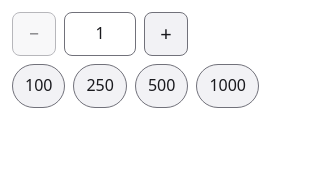
Test: QuantityField › a chip replaces a pending draft
Clear the number field named "Quantity" at (100, 34), box 64,12 -> 136,56
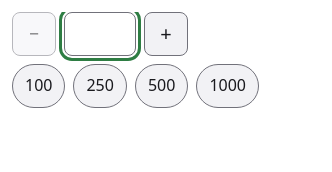
Click the button "500" at (162, 86), box 135,64 -> 188,108
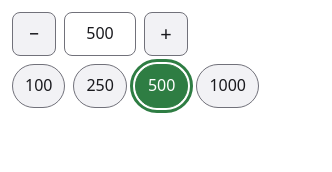
Expected: the number field named "Quantity" holds "500", 64,12 -> 136,56
